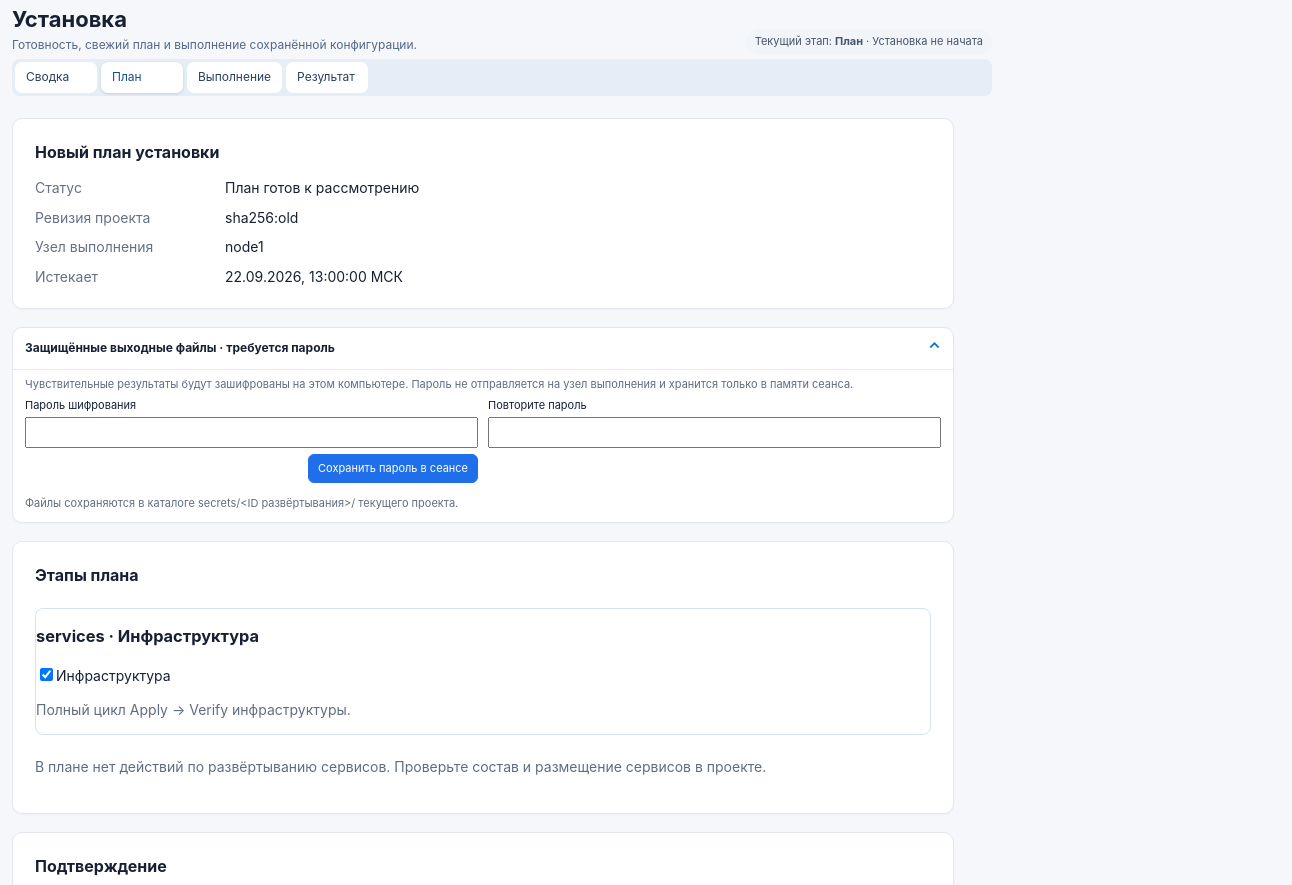
Scenario: InstallationPage › shows a Russian error when the session output passwords do not match
In the password field labelled "Пароль шифрования": (252, 432) top-left (25, 417), bottom-right (478, 448), type "first-session-value"
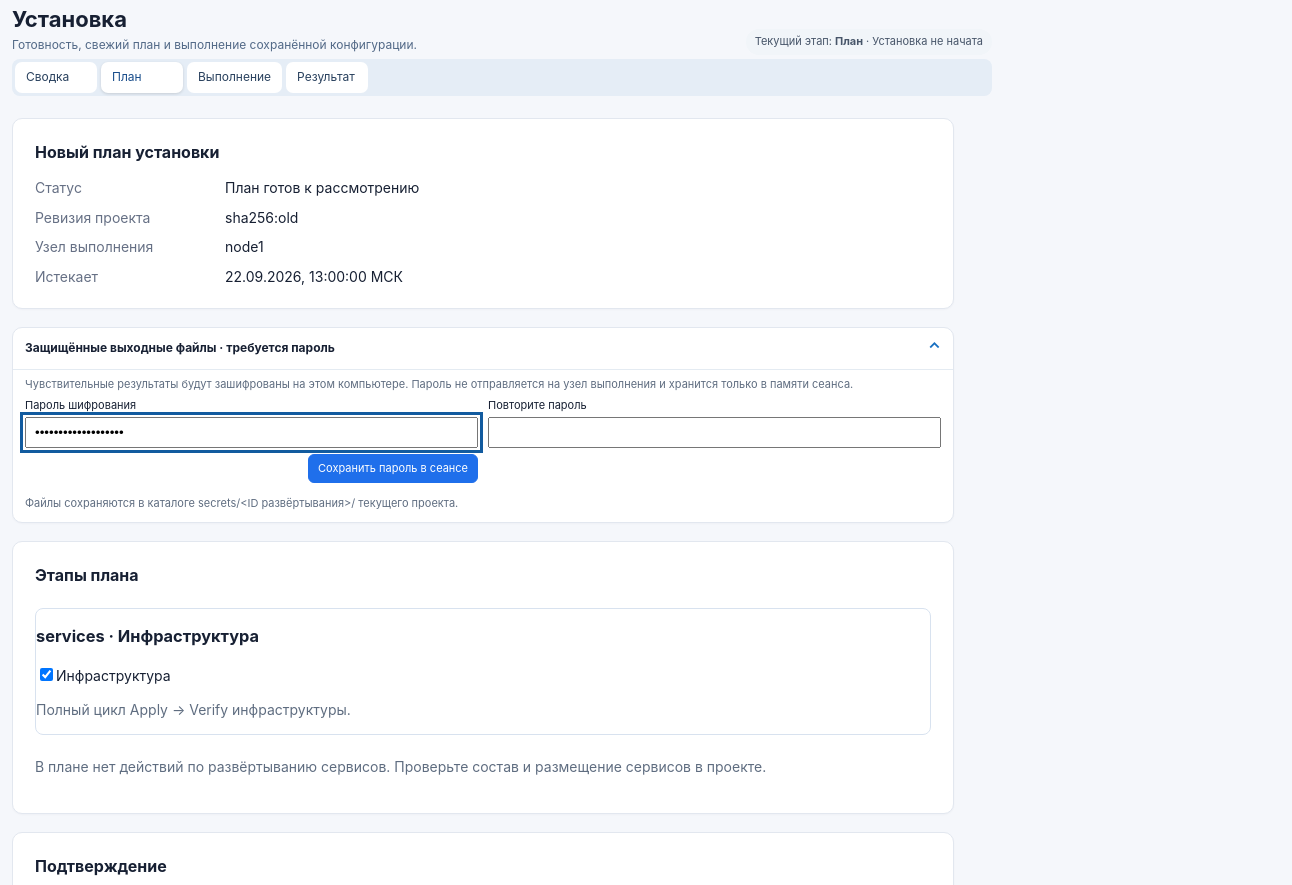
In the password field labelled "Повторите пароль": (714, 432) top-left (488, 417), bottom-right (941, 448), type "second-session-value"
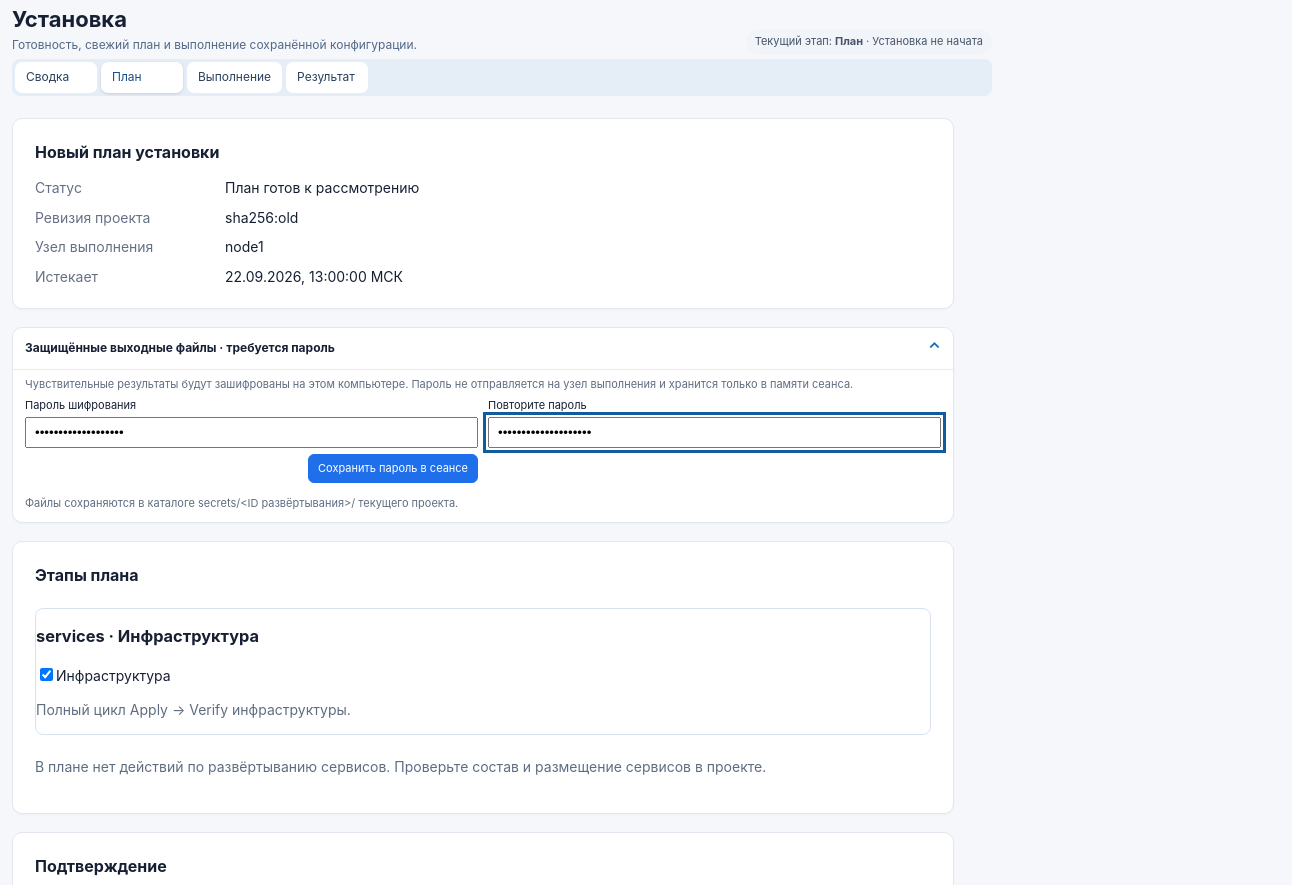
Click the button "Сохранить пароль в сеансе": (393, 468) top-left (308, 454), bottom-right (478, 483)
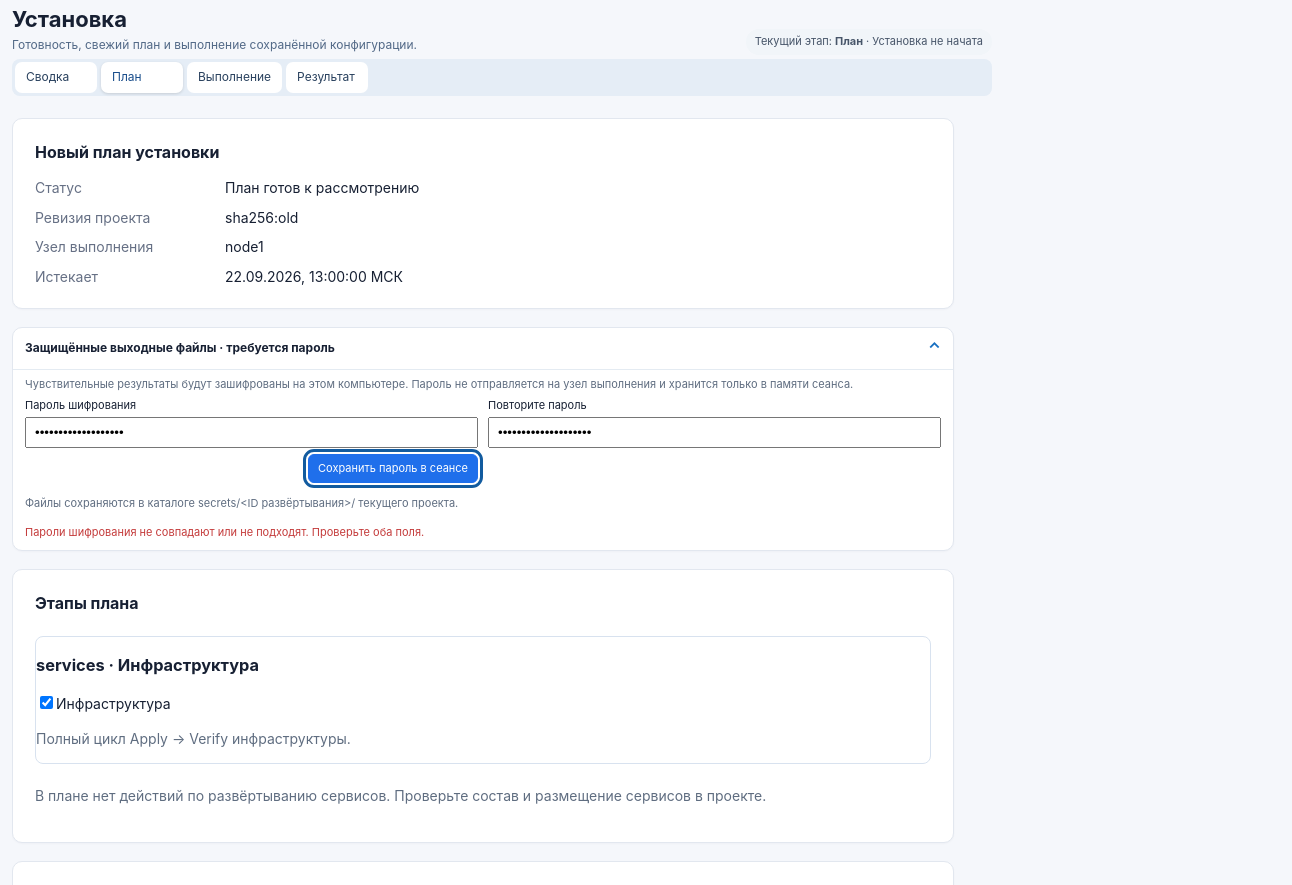
Expected: the text "Пароли шифрования не совпадают или не подходят. Проверьте оба поля." is shown, top-left (25, 524), bottom-right (424, 538)
